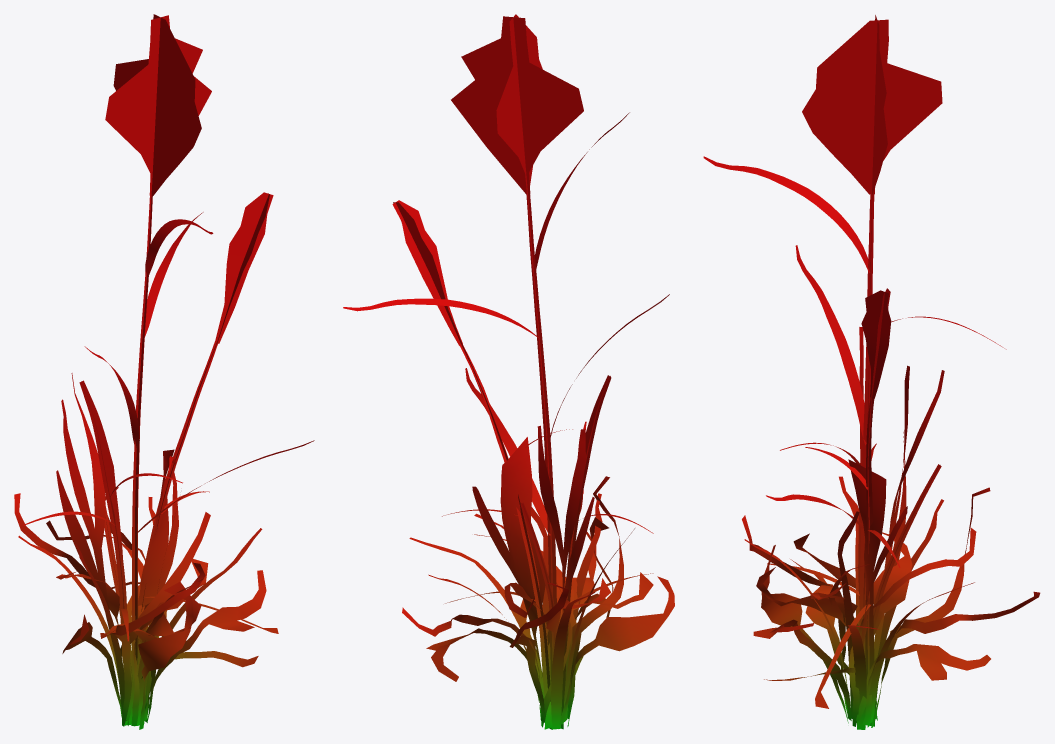
The model's file is sltiN_Var1_LOD0.fbx.
The picture shows the model from 3 angles, left to right: view 1: azimuth 30°, elevation 25°; view 2: azimuth 150°, elevation 25°; view 3: azimuth 270°, elevation 25°; orthographic projection. The views are drawn at different scales.
Parts seen in each view (by area): view 1: _cca6_Var1_LOD0; view 2: _cca6_Var1_LOD0; view 3: _cca6_Var1_LOD0.
Boxes of the visible parts, x1,y1,x2,y2 form: _cca6_Var1_LOD0: (14, 14, 314, 729); _cca6_Var1_LOD0: (343, 14, 674, 729); _cca6_Var1_LOD0: (703, 15, 1040, 729).
Bounding box in the file's own units: 22.6 × 59.32 × 25.05.
